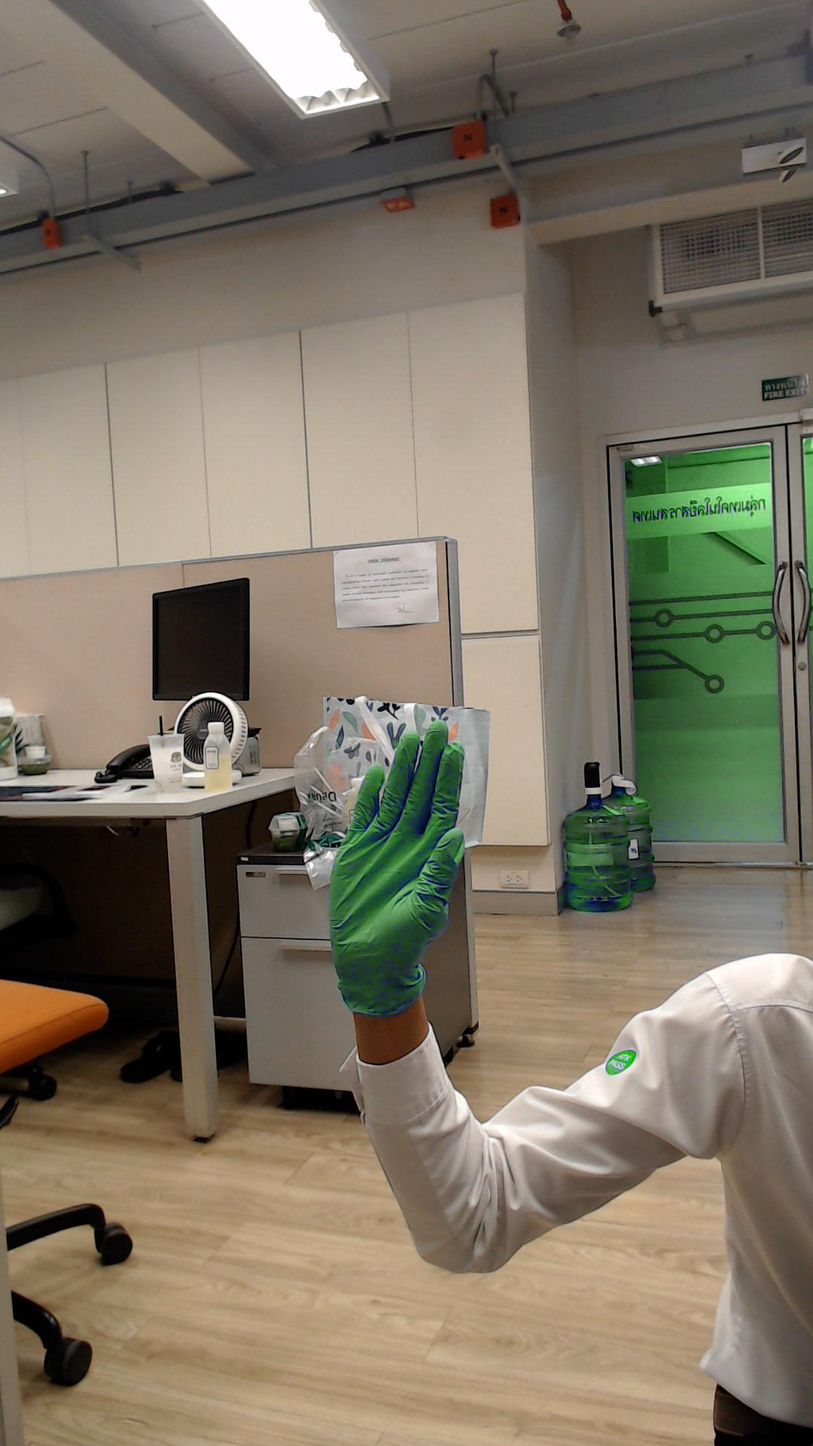gloves: (318, 693, 479, 964)
